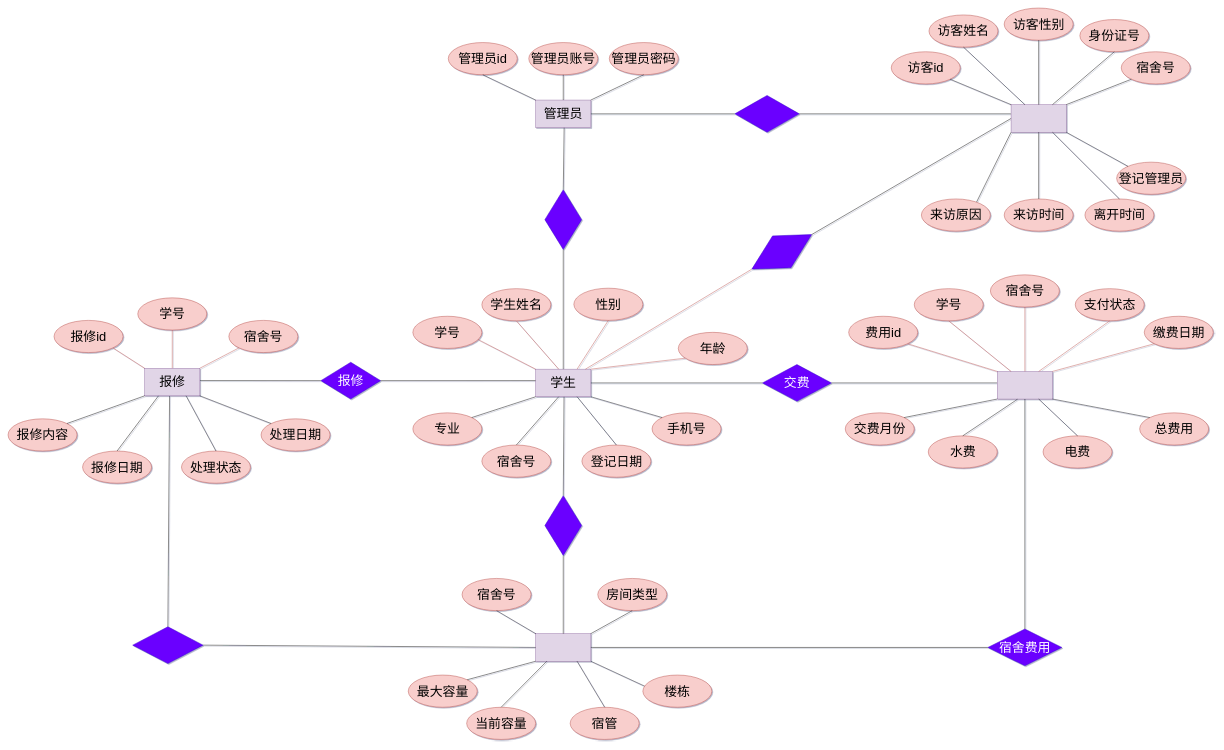
Image size: 1224x750. Some labels were removed from this diagram. Here are the shapes that lost their labels. From the top down, the centre of each, then its label:
At point (766, 113): "登记".
At point (1038, 118): "访客".
At point (563, 219): "管理".
At point (781, 251): "探望".
At point (1024, 385): "费用".
At point (563, 525): "住宿".
At point (167, 645): "维修".
At point (563, 647): "宿舍".
